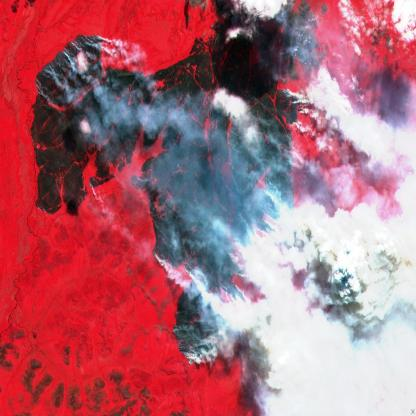fire: (32, 0, 324, 366)
